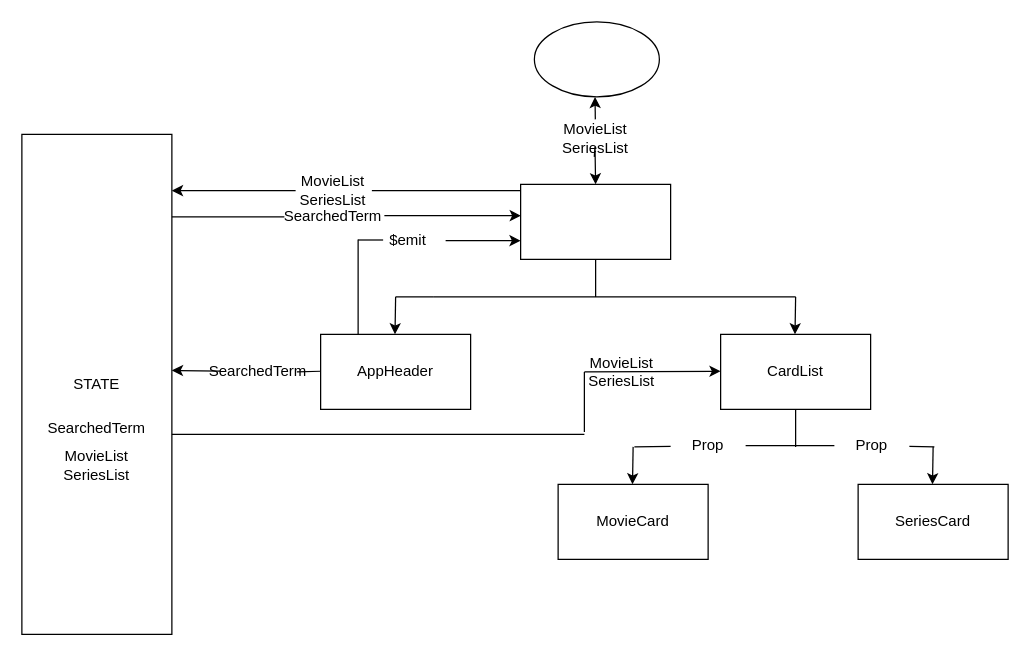
The diagram is 1030 pixels wide and 656 high, and some of its shapes have lost their labels. Here are the shapes that lost their labels. From the top down, the centre of each, then its label:
At [596,59]: "API".
At [595,221]: "App".
